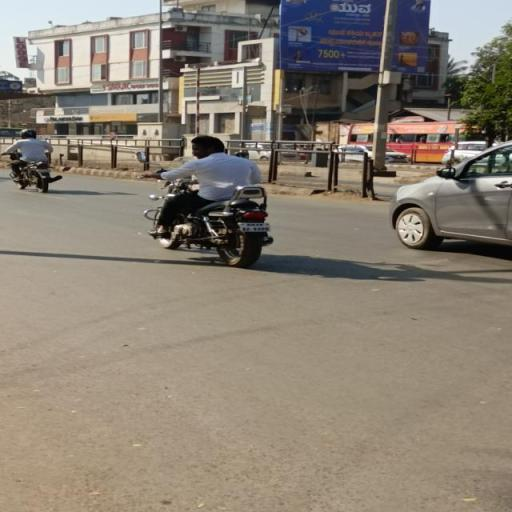bike: (132, 132, 276, 270)
withouthelmet: (192, 137, 222, 157)
